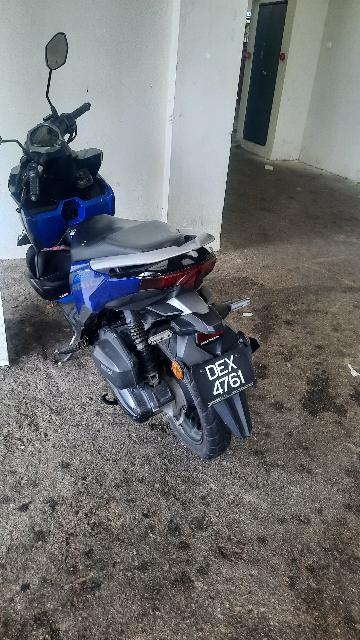License_Plate: (192, 344, 265, 408)
motorcycle: (6, 28, 271, 467)
